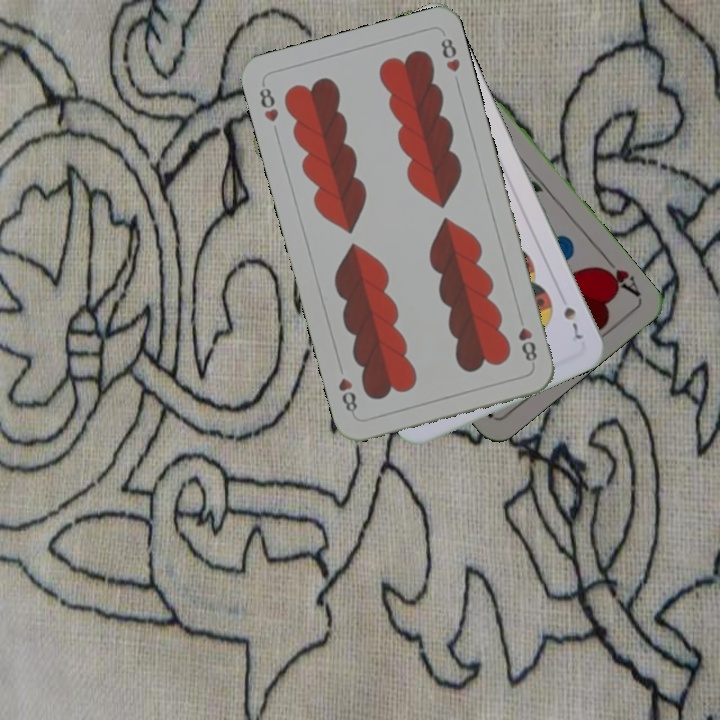H8: (514, 310, 540, 368), (255, 79, 281, 125)
HA: (593, 250, 643, 299)
S7: (559, 302, 585, 345)
